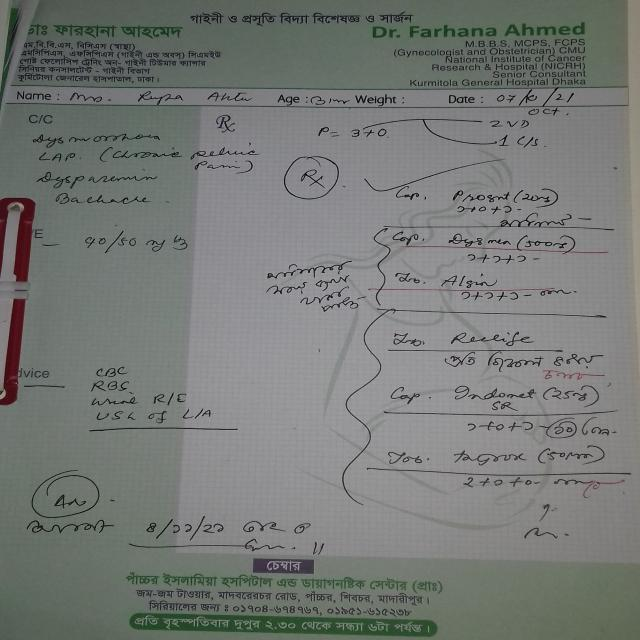Algin: (434, 271, 503, 293)
Dysmen: (439, 230, 516, 251)
Indomet: (449, 380, 545, 402)
Progut: (445, 184, 516, 208)
Reelife: (443, 325, 538, 349)
Thyrox: (441, 442, 534, 474)
